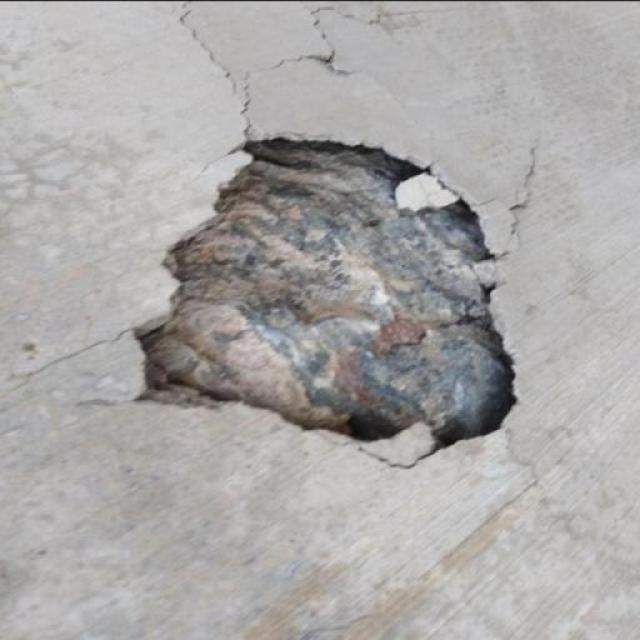D10: (136, 135, 519, 451)
